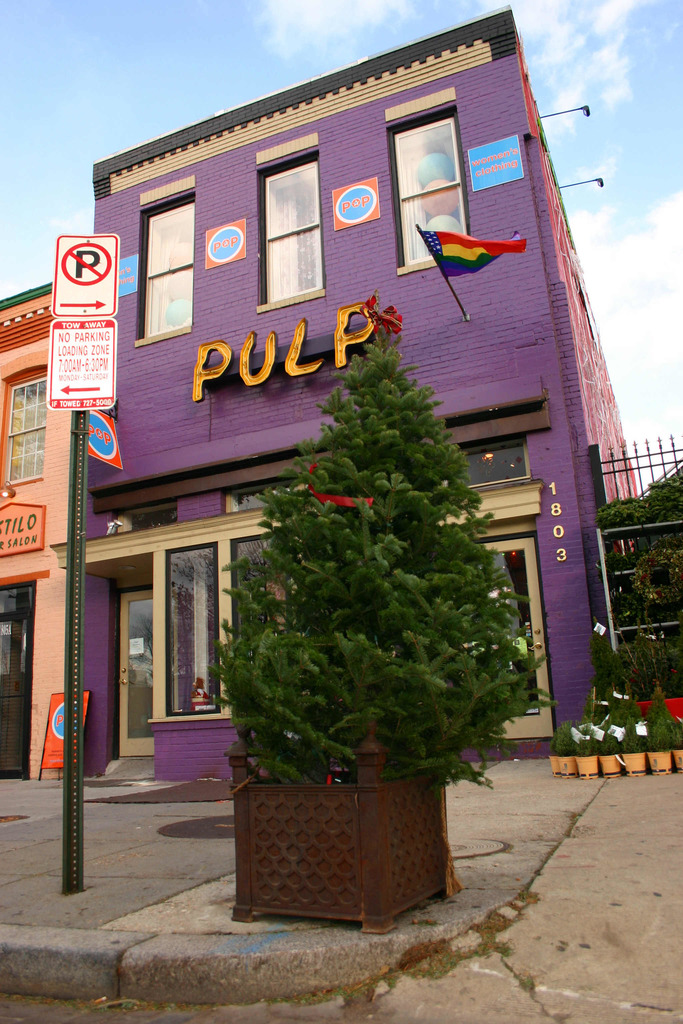Tree: (203, 348, 544, 811), (575, 434, 682, 752)
